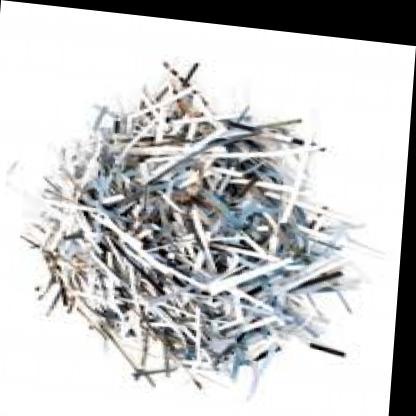Paper: (16, 26, 384, 416)
